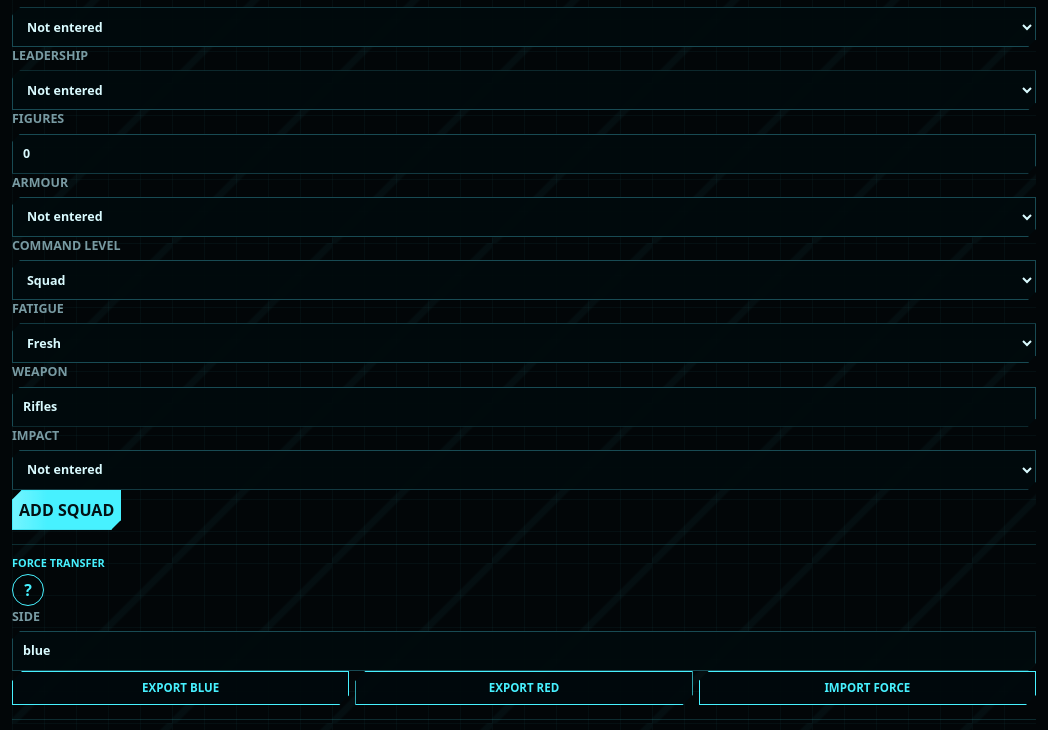
Test: StarGruntView force export › says so when the snapshot carries no roster to write
(page scrolled)
Click the button "Export blue": point(181, 688) [12,671,349,705]
(page scrolled)
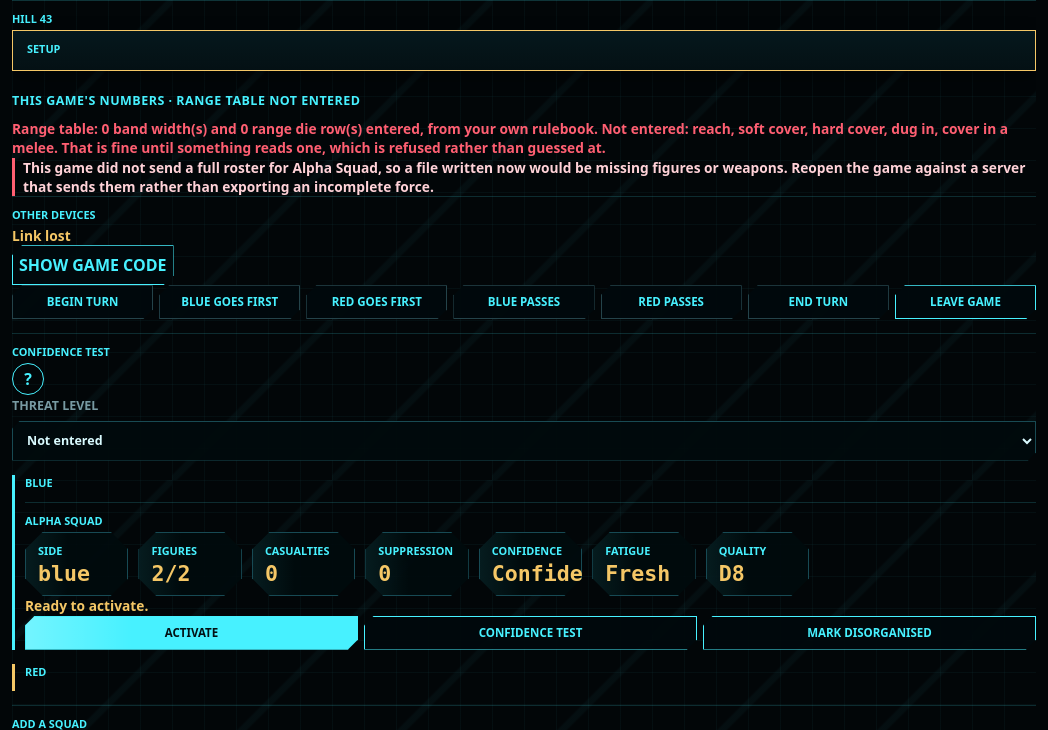
Expected: the 1st message shows "Alpha Squad", [23,158,1025,196]
